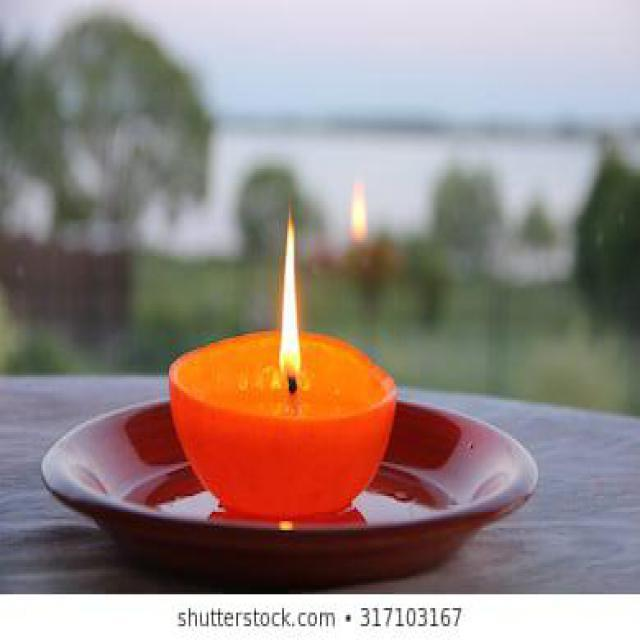Fire: (278, 198, 303, 380)
